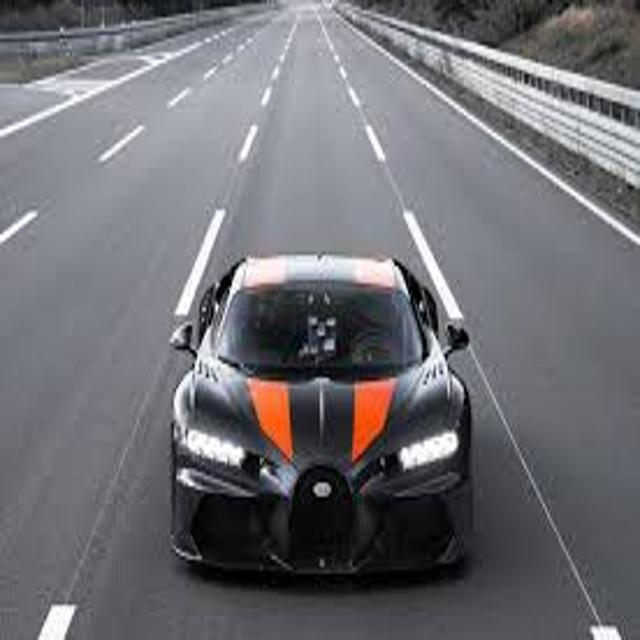car: (170, 254, 471, 578)
